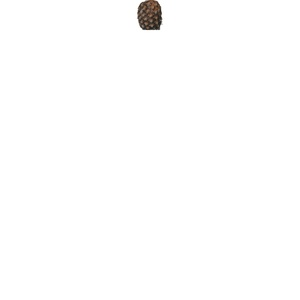abacaxi: (133, 1, 168, 32)
